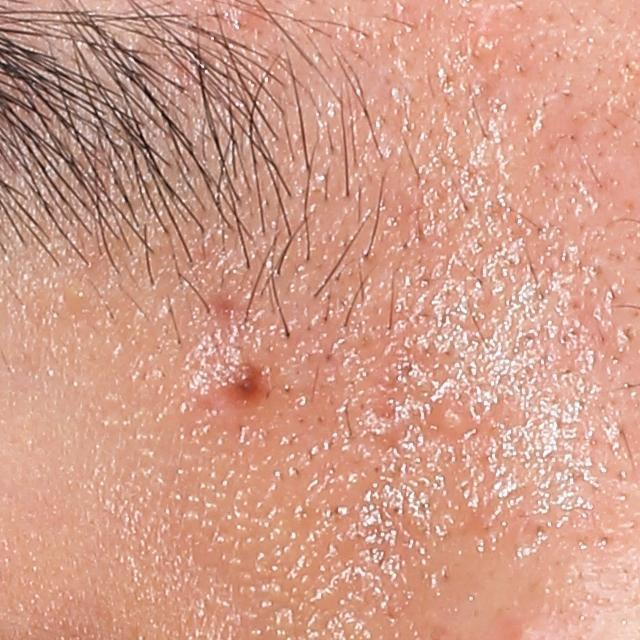nevus: (220, 352, 266, 409)
